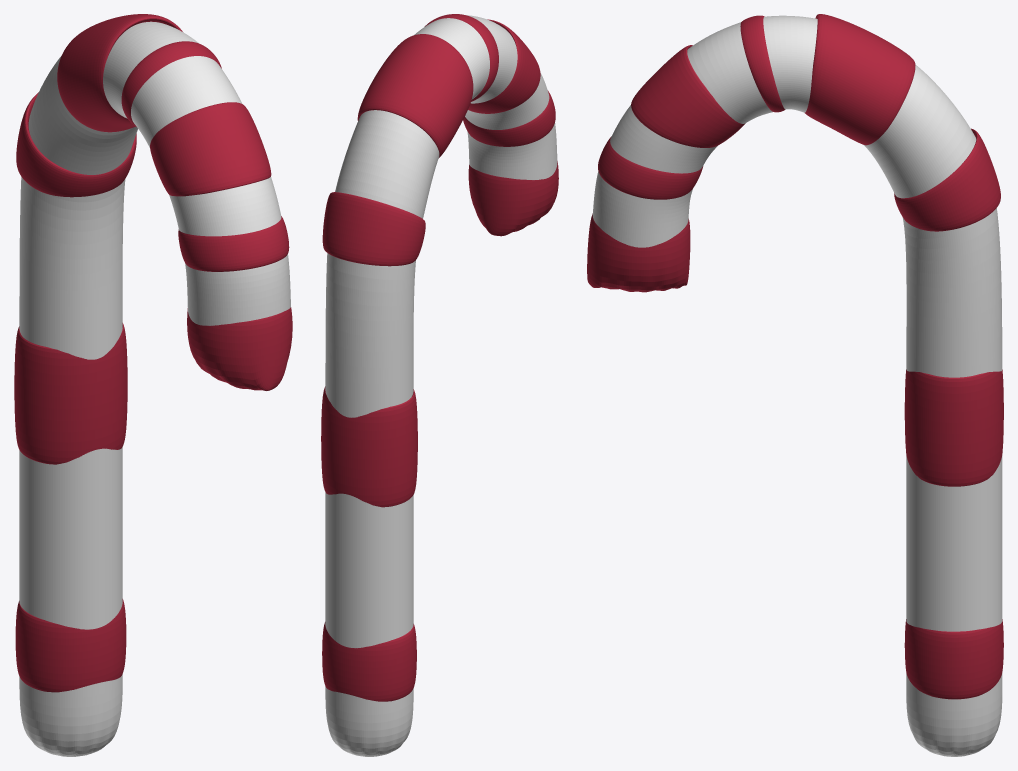
Rendered from CandyCane-smooth.fbx.
The picture shows the model from 3 angles, left to right: view 1: azimuth 30°, elevation 25°; view 2: azimuth 150°, elevation 25°; view 3: azimuth 270°, elevation 25°; orthographic projection. The views are drawn at different scales.
Visible parts, largest first — view 1: Candycane, Redbands; view 2: Candycane, Redbands; view 3: Candycane, Redbands.
Boxes of the visible parts, left/top/right/bottom form: Candycane: left=19, top=21, right=290, bottom=756; Redbands: left=14, top=14, right=292, bottom=692; Candycane: left=325, top=15, right=557, bottom=756; Redbands: left=321, top=14, right=558, bottom=701; Candycane: left=592, top=15, right=1002, bottom=756; Redbands: left=587, top=14, right=1003, bottom=699.
Size of the model in its own units: 11.45 by 81.89 by 42.18.
